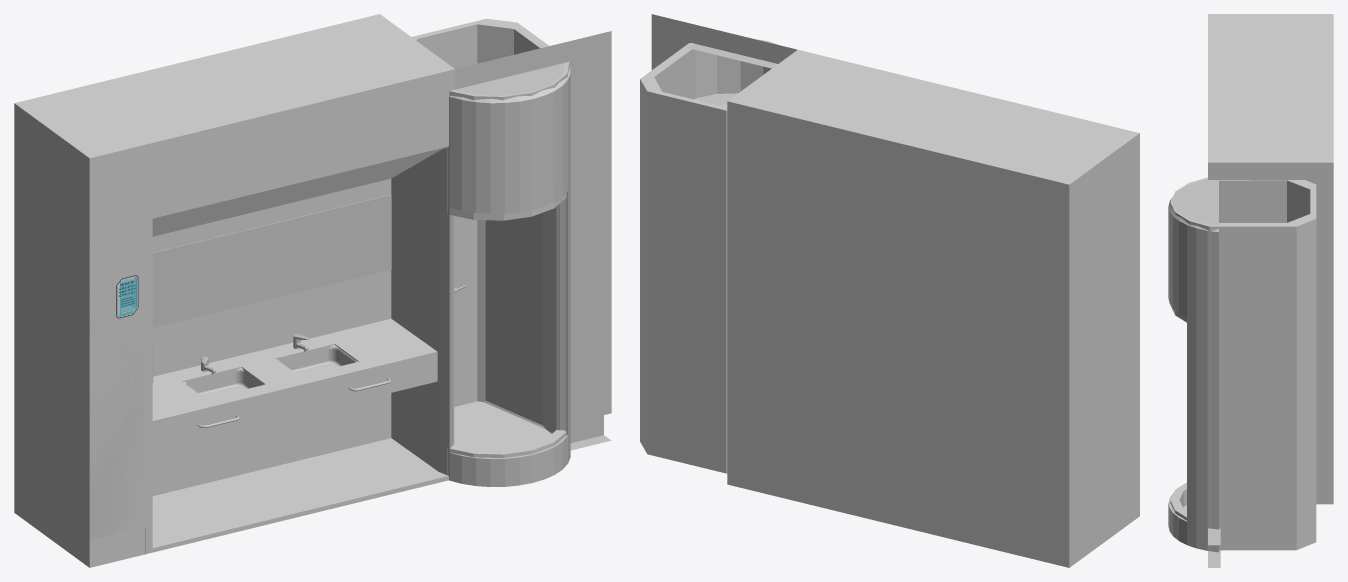
The model's file is wall_01_4x3_h.fbx.
3 views of the same model, side by side, from view 1: azimuth 30°, elevation 25°; view 2: azimuth 150°, elevation 25°; view 3: azimuth 270°, elevation 25° (orthographic). The views are drawn at different scales.
Parts seen in each view (by area): view 1: Cube.233, Plane.394, Plane.396, Plane.403, Plane.407, Plane.395, Plane.405; view 2: Cube.233, Plane.394; view 3: Cube.233, Plane.394, Plane.407, Plane.403.
Part boxes in pixels (x1,y1,x2,y2): Cube.233: (14, 14, 569, 567); Plane.394: (89, 31, 611, 486); Plane.396: (152, 194, 391, 327); Plane.403: (89, 249, 611, 553); Plane.407: (449, 91, 568, 191); Plane.395: (152, 340, 390, 427); Plane.405: (116, 275, 138, 318); Cube.233: (640, 39, 1139, 567); Plane.394: (651, 14, 797, 105); Cube.233: (1170, 14, 1333, 550); Plane.394: (1168, 179, 1221, 552); Plane.407: (1168, 216, 1186, 298); Plane.403: (1208, 528, 1220, 567).
Bounding box in the file's own units: 4 × 3 × 1.32.
